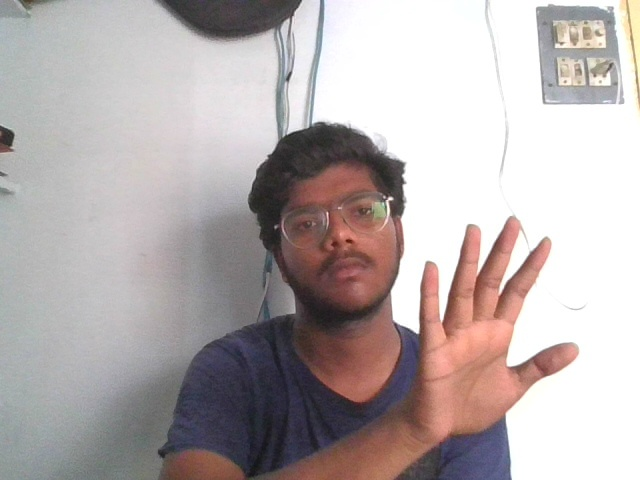Hello: (414, 216, 582, 433)
